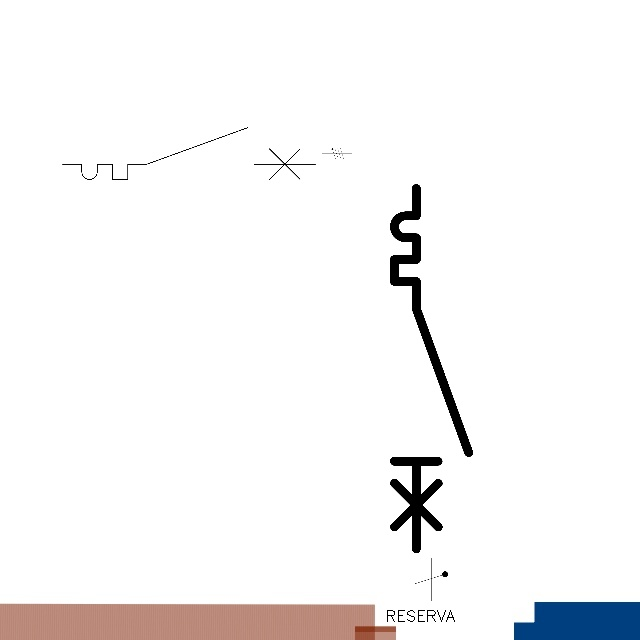interruptor_termomagnetico: (385, 179, 477, 558), (56, 121, 322, 186)
